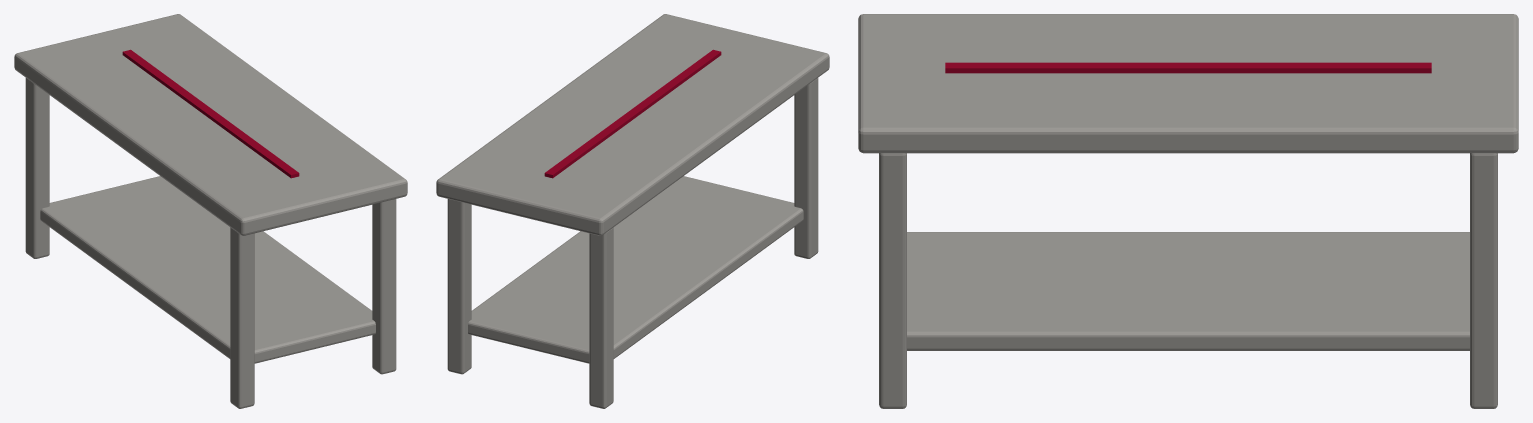
File: operating_table_stone_slab.glb
The picture shows the model from 3 angles, left to right: view 1: azimuth 30°, elevation 25°; view 2: azimuth 150°, elevation 25°; view 3: azimuth 270°, elevation 25°; orthographic projection. The views are drawn at different scales.
Parts seen in each view (by area): view 1: GD_operating_table_stone_slab__m0, GD_operating_table_stone_slab__m1; view 2: GD_operating_table_stone_slab__m0, GD_operating_table_stone_slab__m1; view 3: GD_operating_table_stone_slab__m0, GD_operating_table_stone_slab__m1.
Boxes of the visible parts, x1,y1,x2,y2 form: GD_operating_table_stone_slab__m0: (14, 14, 407, 408); GD_operating_table_stone_slab__m1: (122, 49, 299, 178); GD_operating_table_stone_slab__m0: (436, 14, 829, 408); GD_operating_table_stone_slab__m1: (544, 49, 721, 178); GD_operating_table_stone_slab__m0: (858, 14, 1518, 408); GD_operating_table_stone_slab__m1: (945, 62, 1431, 73).
Bounding box in the file's own units: 0.8 × 0.9175 × 1.9.
